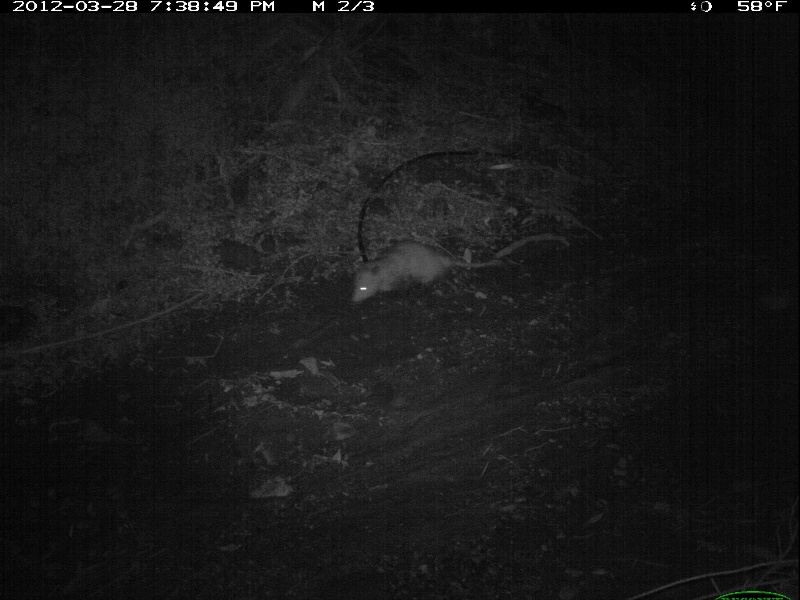opossum: (349, 238, 519, 304)
